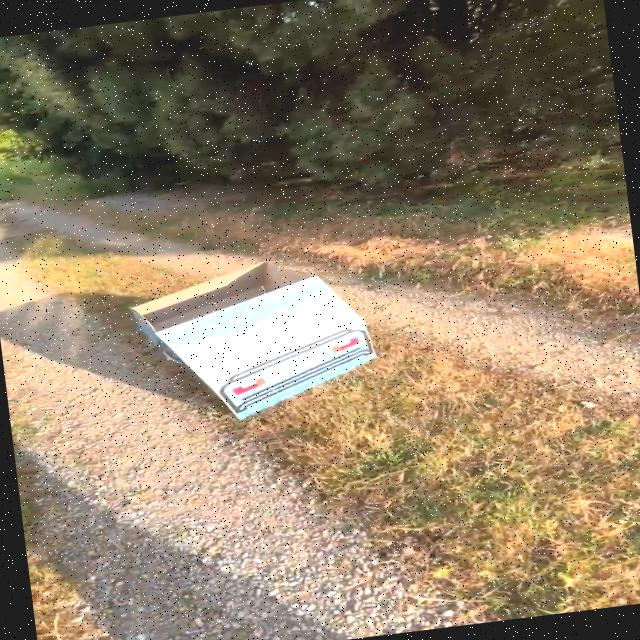blue_car: (84, 223, 417, 456)
